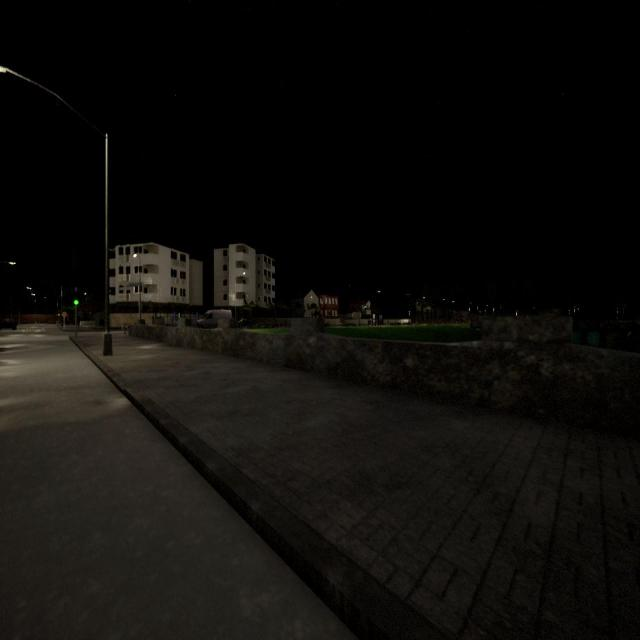Pedestrian: (77, 314, 82, 328)
Traffic_Signs: (61, 311, 68, 318)
Vehicle: (196, 309, 233, 329), (0, 315, 17, 331), (237, 318, 253, 328)
traffic_light: (73, 292, 79, 306), (58, 311, 60, 317)
